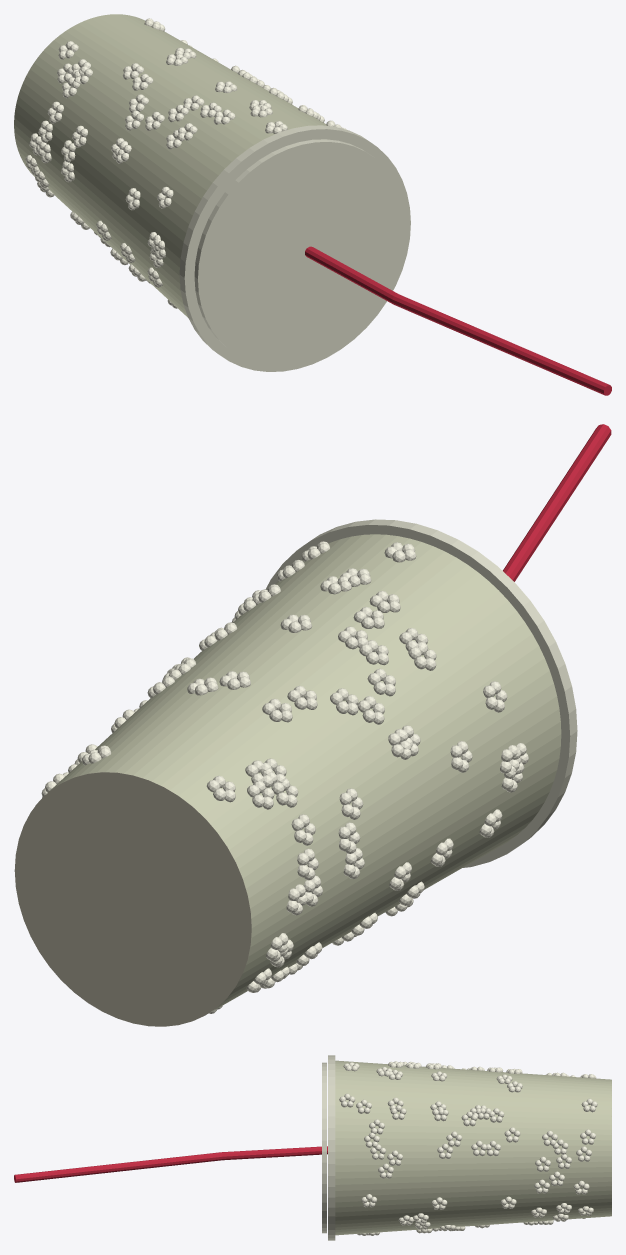
File: floral_cup.glb
3 renders of one model, top to bottom at view 1: azimuth 30°, elevation 25°; view 2: azimuth 150°, elevation 25°; view 3: azimuth 270°, elevation 25°, orthographic. The views are drawn at different scales.
Visible parts, largest first — view 1: 0_tapered_cup_wall, 3_clear_lid_rim, 2_clear_lid_rim, 4_red_straw; view 2: 0_tapered_cup_wall, 1_cup_bottom, 2_clear_lid_rim, 4_red_straw; view 3: 0_tapered_cup_wall, 4_red_straw, 2_clear_lid_rim, 3_clear_lid_rim.
Part boxes in pixels (x1,y1,x2,y2): 0_tapered_cup_wall: (14,14,327,317); 3_clear_lid_rim: (194,139,406,365); 2_clear_lid_rim: (179,125,410,371); 4_red_straw: (305,246,611,395); 0_tapered_cup_wall: (48,534,561,1011); 1_cup_bottom: (14,772,251,1026); 2_clear_lid_rim: (265,519,577,867); 4_red_straw: (503,424,611,581); 0_tapered_cup_wall: (335,1060,611,1235); 4_red_straw: (14,1146,327,1182); 2_clear_lid_rim: (328,1055,335,1240); 3_clear_lid_rim: (322,1062,326,1233).
Size of the model in its own units: 0.076 by 0.076 by 0.2454.
